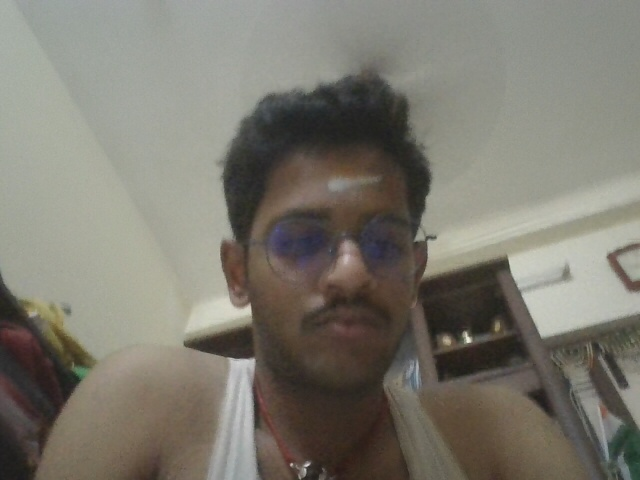real: (232, 149, 457, 374)
